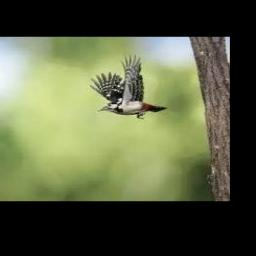Woodpecker: (89, 52, 166, 119)
